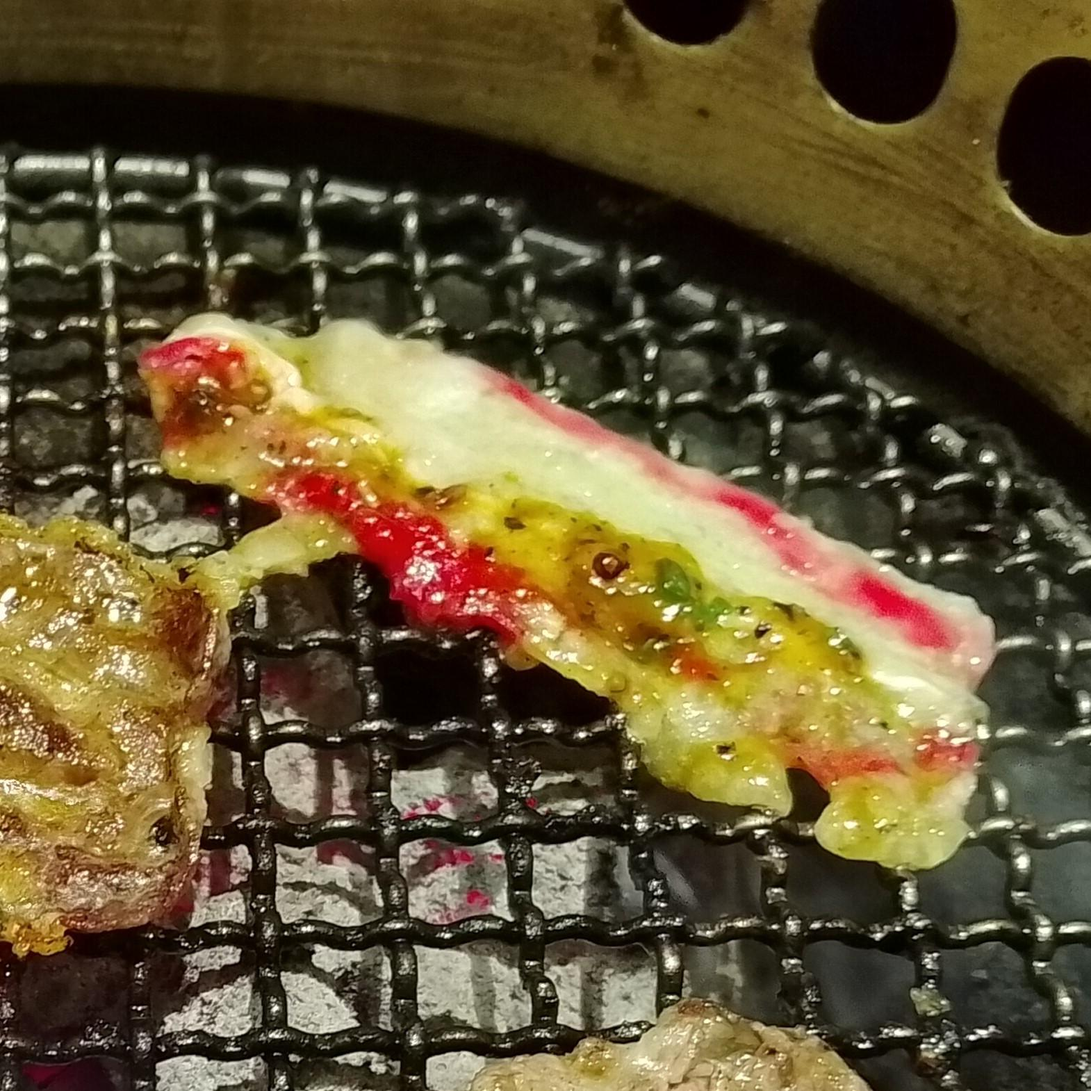Overcooked: (0, 513, 231, 962)
Undercooked: (135, 314, 996, 878)
